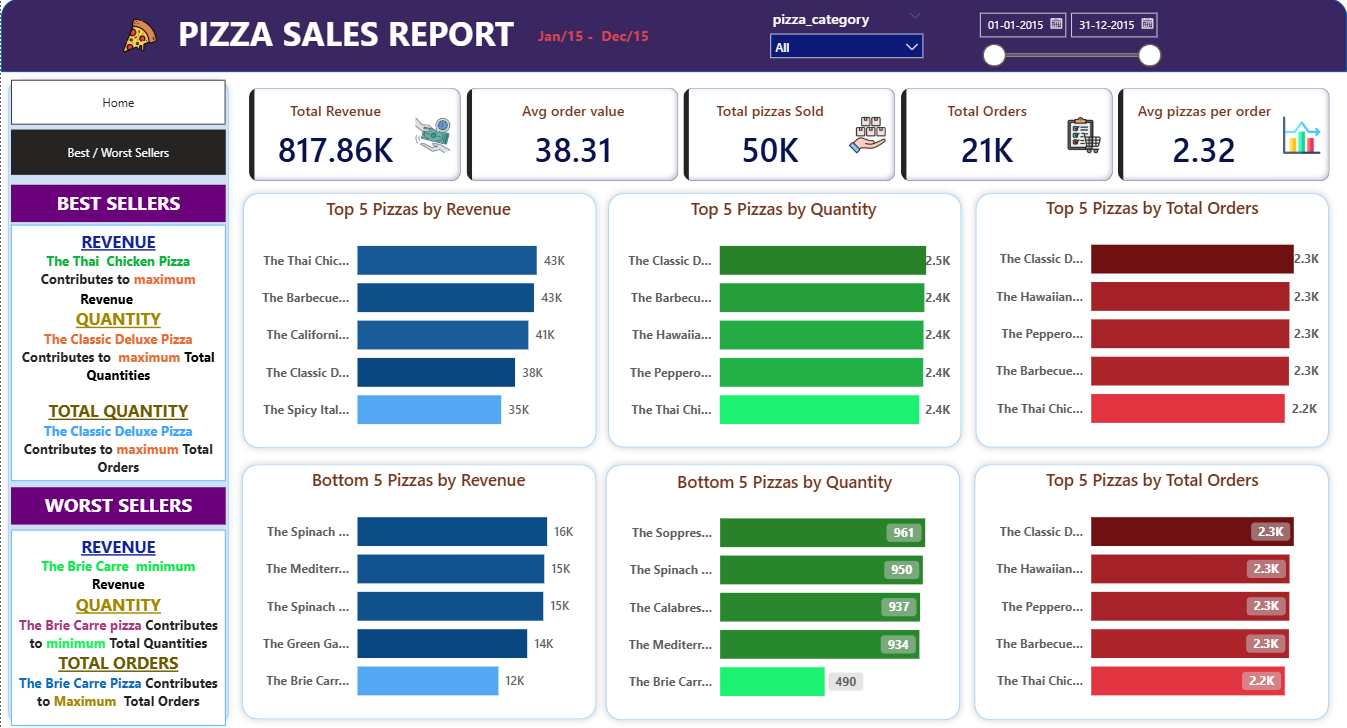

The dashboard page shown, as its layout file describes it:
{"tool":"powerbi","page":{"name":"Best / Worst Sellers","canvas":[1500,820],"ordinal":1},"visuals":[{"type":"cardVisual","fields":{"Data":["Measures (2).Total Revenue","Measures (2).Avg order value","Measures (2).Total pizzas Sold","Measures (2).Total Orders","Measures (2).Avg pizzas per order"]},"box":[271.6,97.5,1218.6,114.2],"z":0},{"type":"shape","box":[0,2.8,1499.9,82.2],"z":1000},{"type":"textbox","box":[192.2,11.1,401.1,62.7],"z":2000},{"type":"textbox","box":[593.3,27.9,143.4,32],"z":3000},{"type":"image","box":[130.9,8.4,47.4,71],"z":4000},{"type":"shape","box":[261.8,211.7,409.4,300],"z":5000},{"type":"shape","box":[668.5,211.7,409.4,299.4],"z":6000},{"type":"shape","box":[0,85,261.8,735.3],"z":7000},{"type":"textbox","box":[11.1,210.3,239.5,41.8],"z":8000},{"type":"textbox","box":[11.1,254.9,239.5,285.5],"z":9000},{"type":"textbox","box":[11.1,547.3,239.5,41.8],"z":10000},{"type":"textbox","box":[11.1,594.7,239.5,218.6],"z":11000},{"type":"slicer","fields":{"Values":["pizza_sales.pizza_category"]},"box":[846.7,8.4,190.8,62.7],"z":12000},{"type":"slicer","fields":{"Values":["pizza_sales.order_date"]},"box":[1077.9,8.4,222.8,71],"z":13000},{"type":"shape","box":[1077.9,211.7,409.4,299.4],"z":14000},{"type":"shape","box":[260.4,513.9,410.8,300],"z":15000},{"type":"shape","box":[665.7,513.9,410.8,300.8],"z":16000},{"type":"shape","box":[1076.5,513.9,410.8,300.8],"z":17000},{"type":"barChart","title":"Top 5 Pizzas by Revenue","fields":{"Category":["pizza_sales.pizza_name"],"Y":["Measures (2).Total Revenue"]},"box":[274.4,224.2,381.6,275.7],"z":18000},{"type":"barChart","title":"Bottom 5 Pizzas by Revenue","fields":{"Category":["pizza_sales.pizza_name"],"Y":["Measures (2).Total Revenue"]},"box":[274.4,526.4,381.6,275.7],"z":19000},{"type":"barChart","title":"Top 5 Pizzas by Quantity","fields":{"Category":["pizza_sales.pizza_name"],"Y":["Measures (2).Total pizzas Sold"]},"box":[681,224.2,381.6,275.7],"z":20000},{"type":"barChart","title":"Bottom 5 Pizzas by Quantity","fields":{"Category":["pizza_sales.pizza_name"],"Y":["Measures (2).Total pizzas Sold"]},"box":[681.8,527.4,381.1,275],"z":21000},{"type":"barChart","title":"Top 5 Pizzas by Total Orders","fields":{"Category":["pizza_sales.pizza_name"],"Y":["Measures (2).Total Orders"]},"box":[1091.9,222.8,381.6,275.7],"z":22000},{"type":"barChart","title":"Top 5 Pizzas by Total Orders","fields":{"Category":["pizza_sales.pizza_name"],"Y":["Measures (2).Total Orders"]},"box":[1091.9,526.4,381.6,275.7],"z":23000},{"type":"pageNavigator","box":[11.1,93.3,239.5,50.1],"z":24000},{"type":"pageNavigator","box":[11.1,149,239.5,50.1],"z":25000}]}

Visuals, with their boxes in screenshot pixels (x1, y1, x2, y2), scaled from the page's 1500x820 canvas onto the 1347x728 screenshot:
cardVisual - Measures (2).Total Revenue x Measures (2).Avg order value: [244, 87, 1338, 188]
shape: [0, 2, 1346, 75]
textbox: [173, 10, 533, 66]
textbox: [533, 25, 662, 53]
image: [118, 7, 160, 70]
shape: [235, 188, 603, 454]
shape: [600, 188, 968, 454]
shape: [0, 75, 235, 727]
textbox: [10, 187, 225, 224]
textbox: [10, 226, 225, 480]
textbox: [10, 486, 225, 523]
textbox: [10, 528, 225, 722]
slicer - pizza_sales.pizza_category: [760, 7, 932, 63]
slicer - pizza_sales.order_date: [968, 7, 1168, 70]
shape: [968, 188, 1336, 454]
shape: [234, 456, 603, 723]
shape: [598, 456, 967, 723]
shape: [967, 456, 1336, 723]
"Top 5 Pizzas by Revenue" barChart: [246, 199, 589, 444]
"Bottom 5 Pizzas by Revenue" barChart: [246, 467, 589, 712]
"Top 5 Pizzas by Quantity" barChart: [612, 199, 954, 444]
"Bottom 5 Pizzas by Quantity" barChart: [612, 468, 954, 712]
"Top 5 Pizzas by Total Orders" barChart: [981, 198, 1323, 443]
"Top 5 Pizzas by Total Orders" barChart: [981, 467, 1323, 712]
pageNavigator: [10, 83, 225, 127]
pageNavigator: [10, 132, 225, 177]
